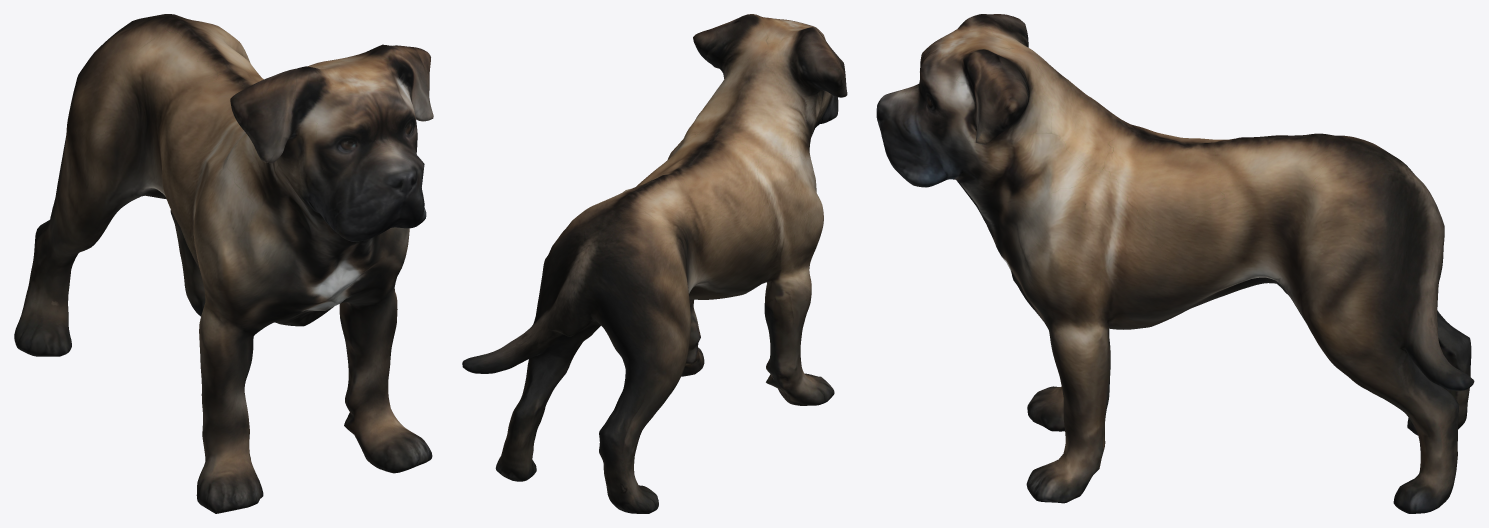
File: CANE_CORSO_FULL_BODY_0522164707.fbx
3 renders of one model, left to right at view 1: azimuth 30°, elevation 25°; view 2: azimuth 150°, elevation 25°; view 3: azimuth 270°, elevation 25°, orthographic. The views are drawn at different scales.
Visible parts, largest first — view 1: Mesh_0; view 2: Mesh_0; view 3: Mesh_0.
Part boxes in pixels (x1,y1,x2,y2): Mesh_0: [14, 14, 433, 513]; Mesh_0: [462, 14, 847, 513]; Mesh_0: [876, 14, 1474, 513].
Bounding box in the file's own units: 57.47 × 93.81 × 120.
Materials: 1 (1 with a texture image).
